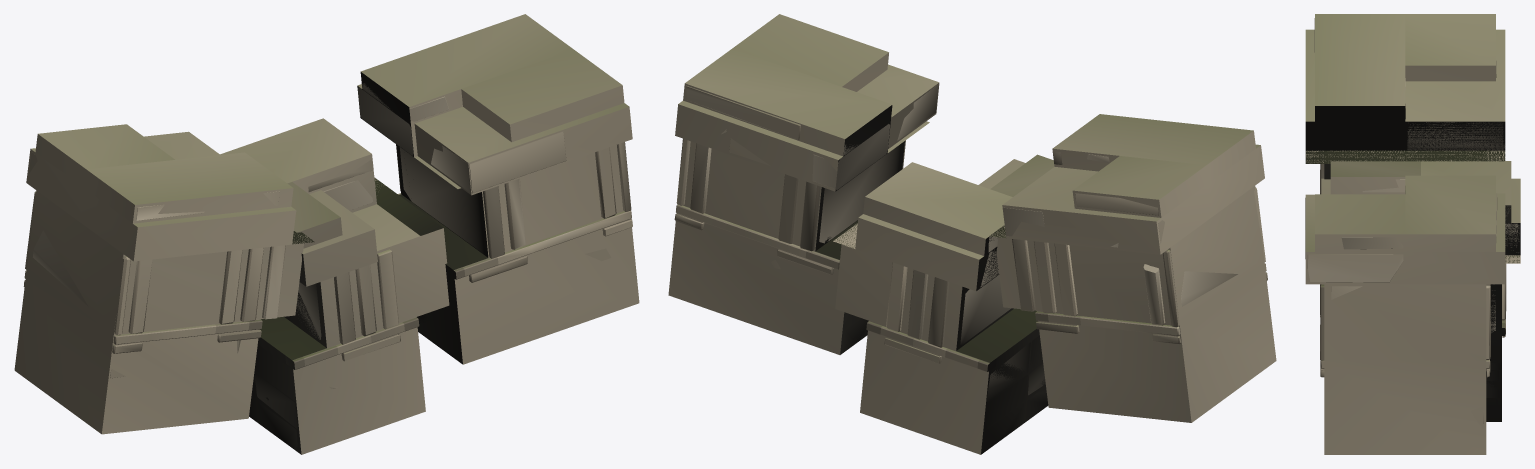
Rendered from lintel_cracked_wide.glb.
The picture shows the model from 3 angles, left to right: view 1: azimuth 30°, elevation 25°; view 2: azimuth 150°, elevation 25°; view 3: azimuth 270°, elevation 25°; orthographic projection. The views are drawn at different scales.
Visible parts, largest first — view 1: lintel_cracked_wide_far, lintel_cracked_wide; view 2: lintel_cracked_wide_far, lintel_cracked_wide; view 3: lintel_cracked_wide_far, lintel_cracked_wide.
Boxes of the visible parts, <box> form: lintel_cracked_wide_far: <box>14,14,639,454</box>; lintel_cracked_wide: <box>23,83,632,450</box>; lintel_cracked_wide_far: <box>668,14,1276,454</box>; lintel_cracked_wide: <box>674,84,1267,451</box>; lintel_cracked_wide_far: <box>1305,14,1520,454</box>; lintel_cracked_wide: <box>1305,18,1519,428</box>.
Bounding box in the file's own units: 18.5 × 10.01 × 6.92.
